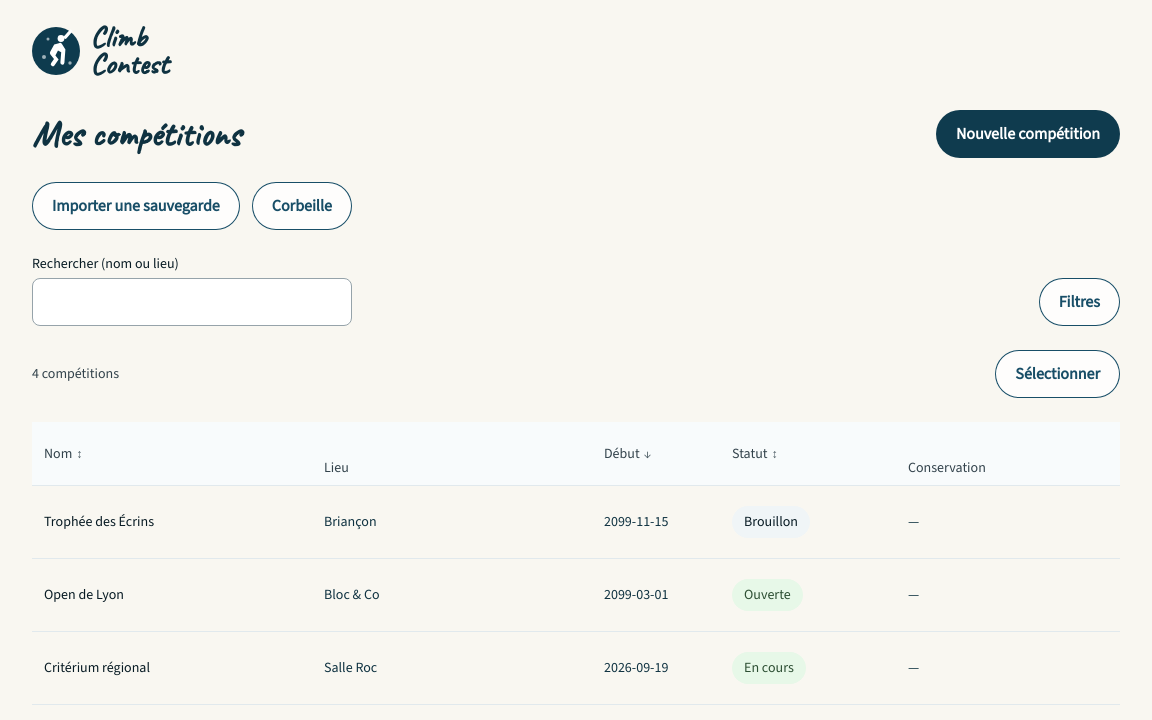
it: CompetitionList › mise à la corbeille › « Terminer » quitte le mode sélection et vide la sélection
Click the button "Sélectionner" at (1058, 374), box [995,350,1120,398]
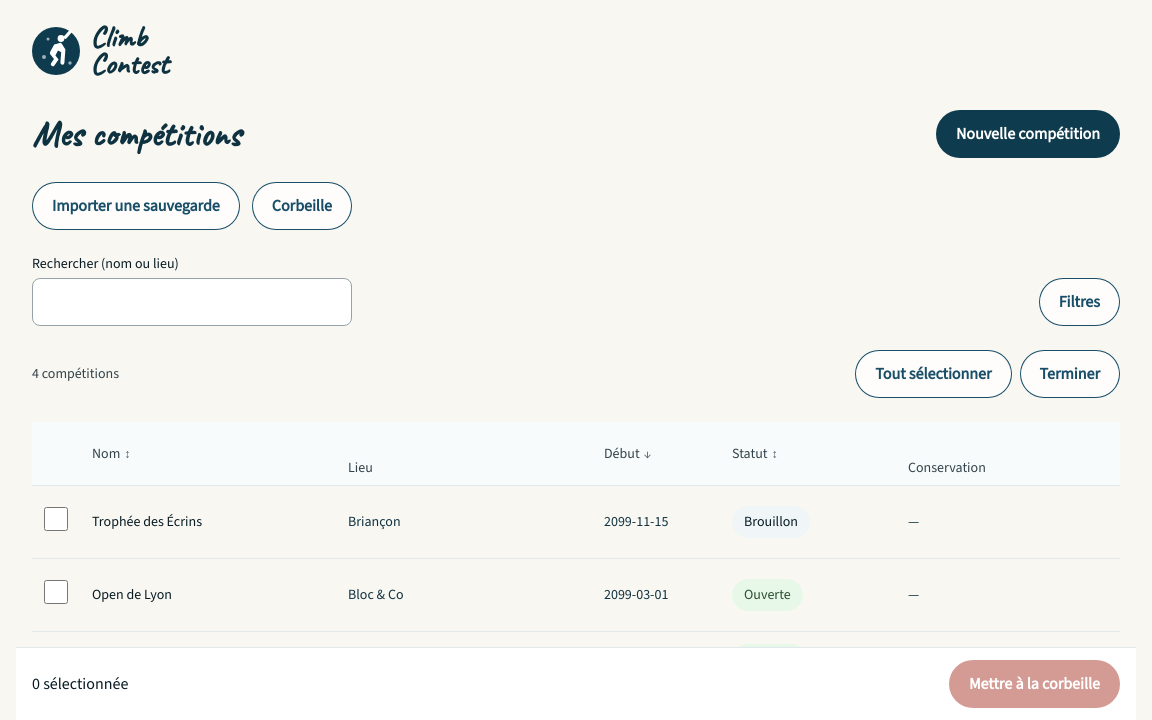
Click the button "Terminer" at (1070, 374), box [1020,350,1120,398]
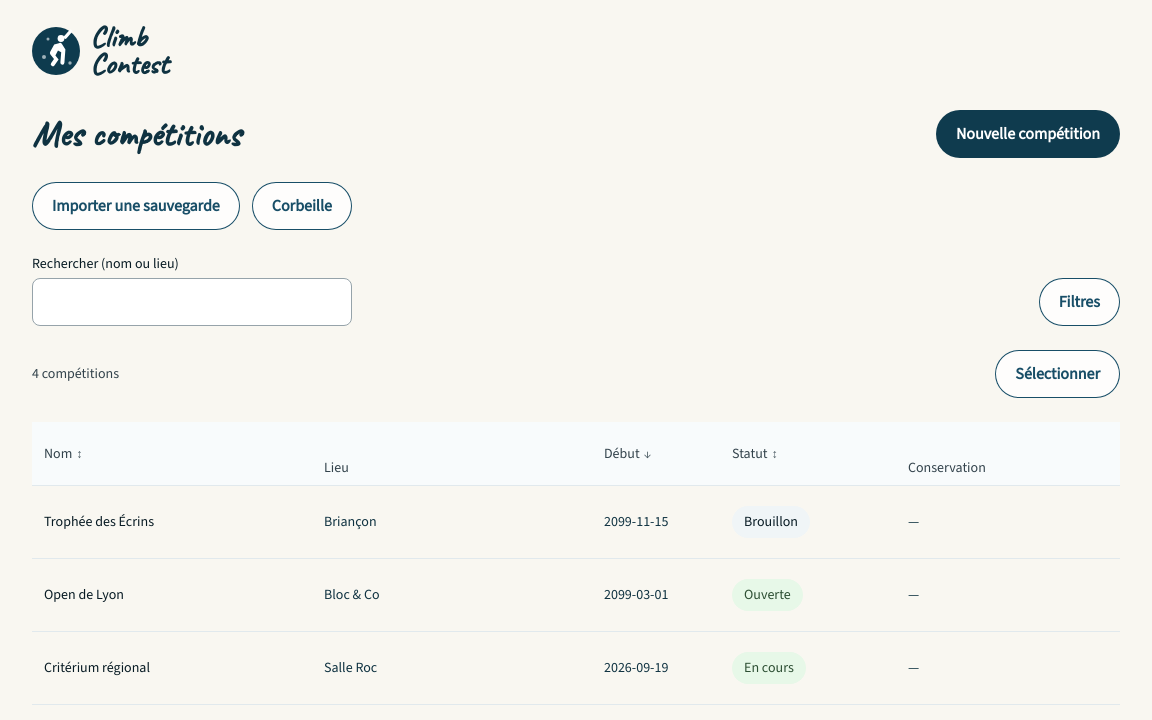
Expected: no checkboxes are shown
